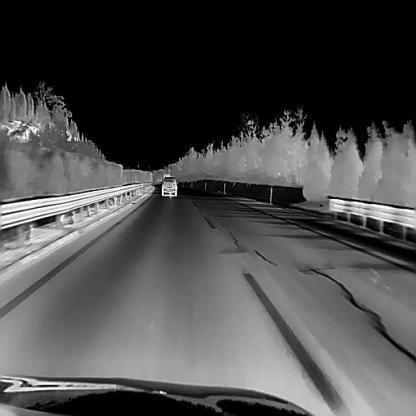car: (160, 175, 177, 195)
